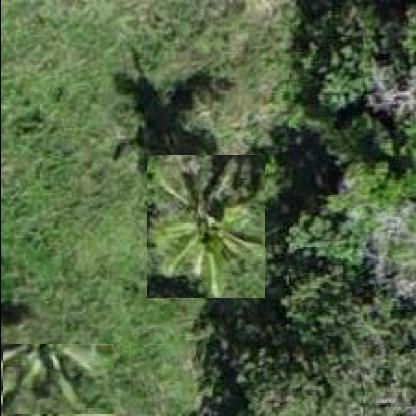coconut tree: (145, 154, 264, 298), (1, 343, 113, 414)
